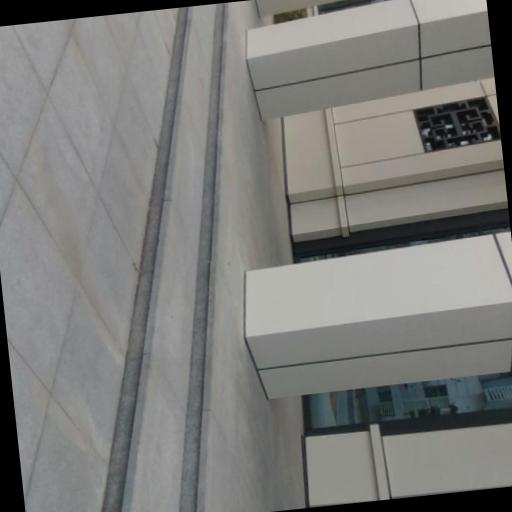stairs: (103, 3, 225, 511)
